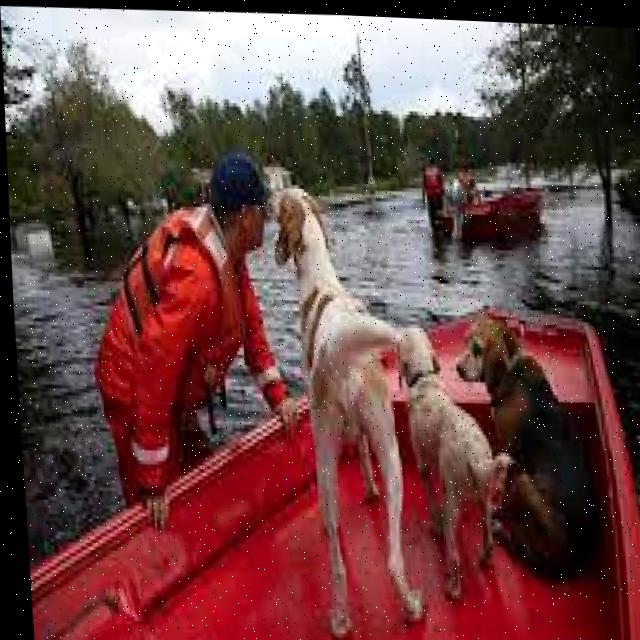dog: (270, 168, 437, 640), (444, 306, 613, 595), (382, 312, 518, 620)
rescuer: (81, 151, 298, 554), (411, 144, 461, 240)
